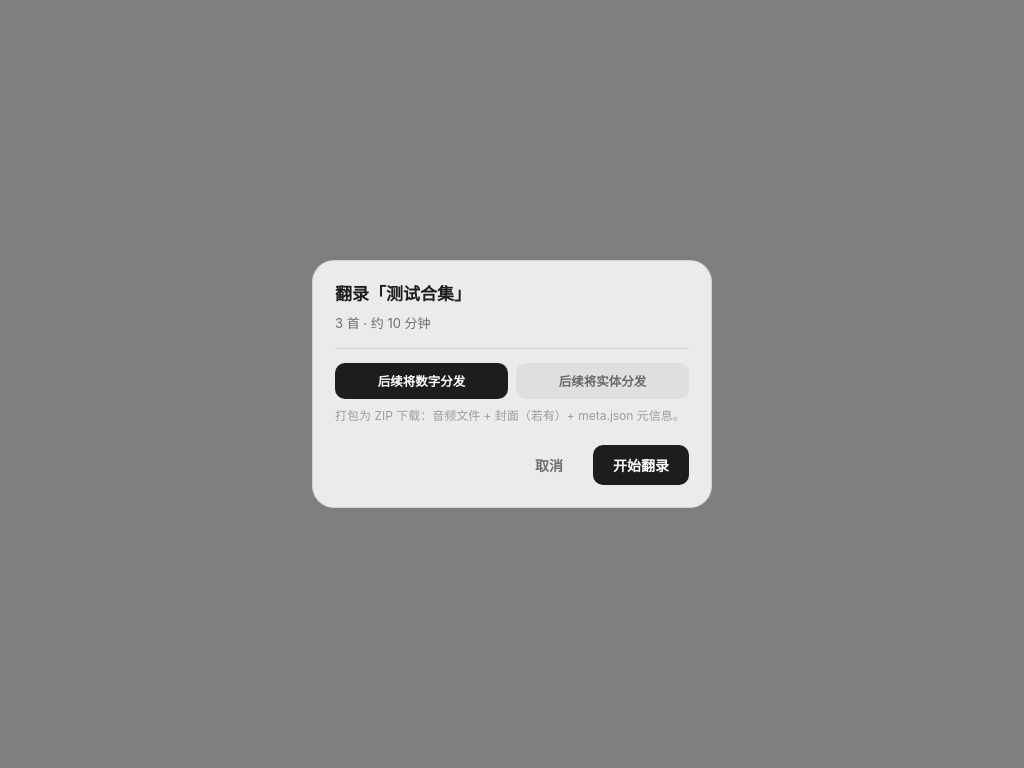
Test: RipDialog › 介质不支持数据 CD：数据模式下不可开始并给原因
This screenshot has width=1024, height=768.
Step 1. Click the radio button with test id "rip-dist-physical" → point(602, 381), box x1=516 y1=363 x2=689 y2=399
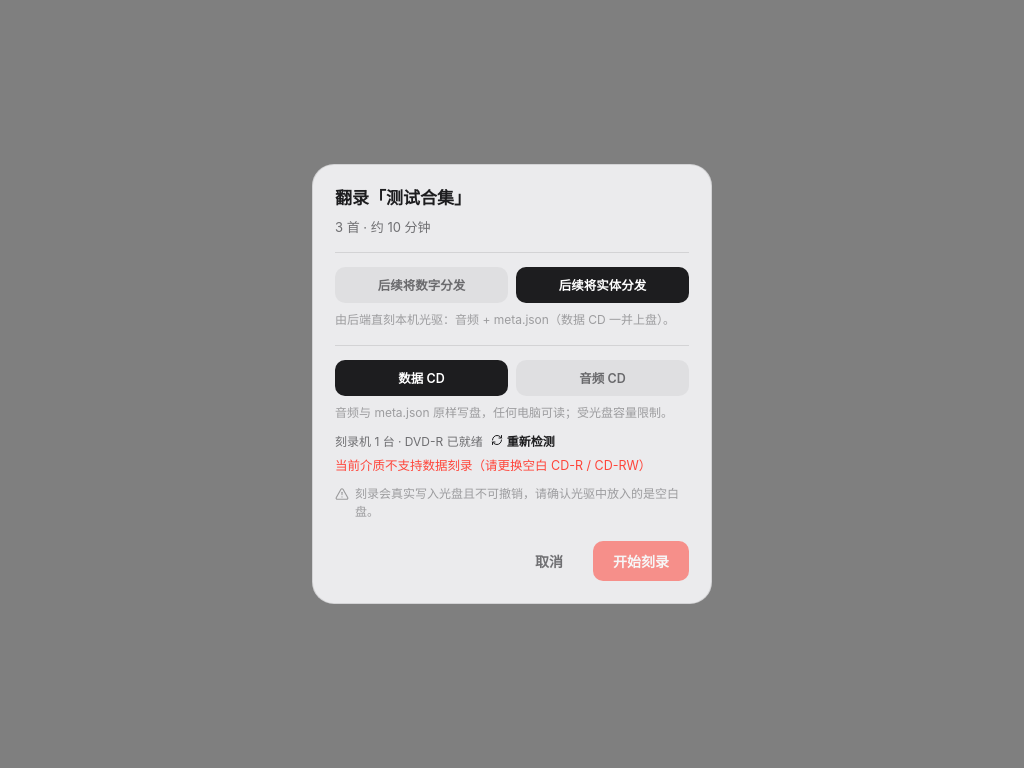
Now the element with test id "rip-caps" shows "刻录机 1 台", box x1=335 y1=434 x2=483 y2=448
Now the text with test id "rip-data-reason" shows "不支持数据刻录", box x1=335 y1=458 x2=651 y2=472
Now the button "开始刻录" is disabled, box x1=593 y1=541 x2=689 y2=581
